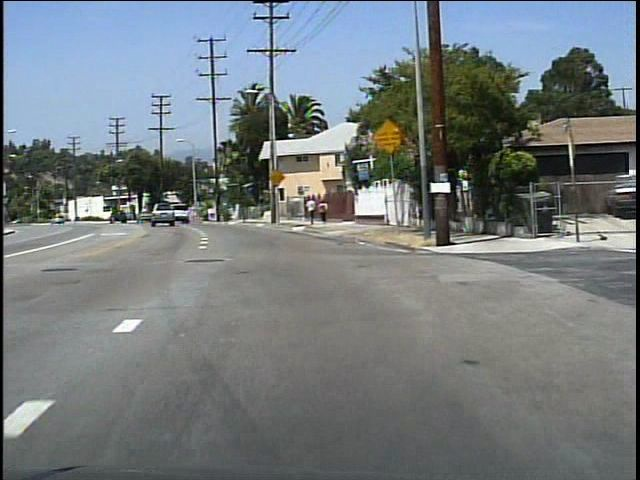person: (304, 196, 318, 227), (317, 198, 330, 227)
